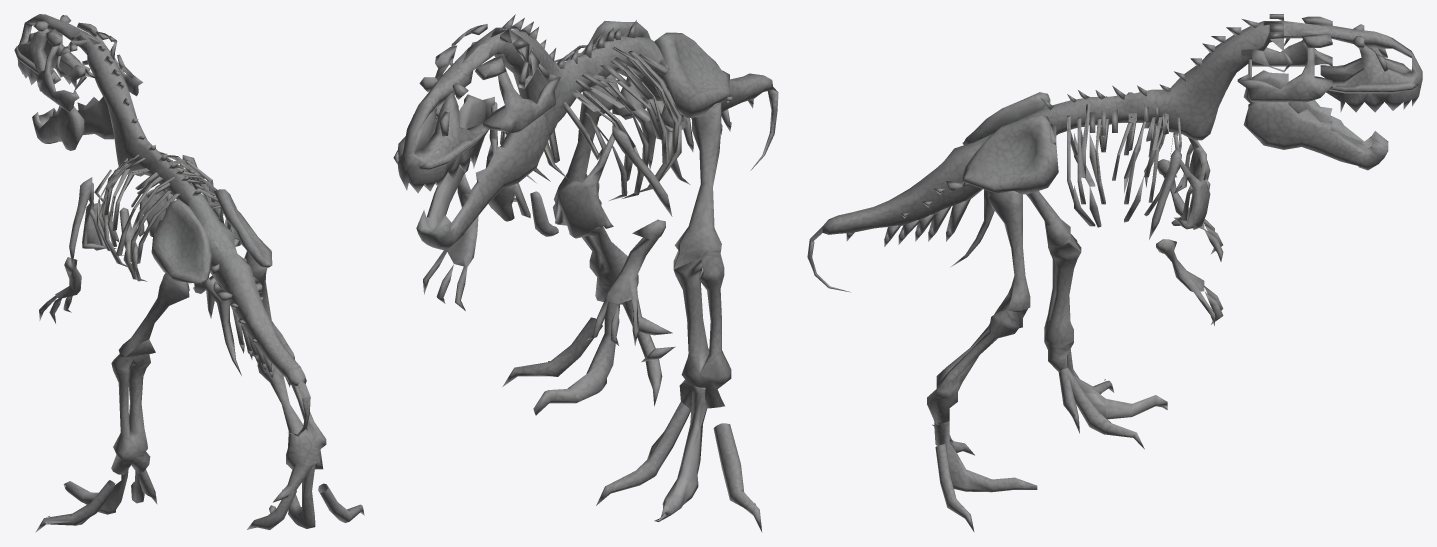
File: esqueleto.fbx
The picture shows the model from 3 angles, left to right: view 1: azimuth 30°, elevation 25°; view 2: azimuth 150°, elevation 25°; view 3: azimuth 270°, elevation 25°; orthographic projection. The views are drawn at different scales.
Parts seen in each view (by area): view 1: vertebra, pierna, cabezaArriba, femur, femur2, mandibula, pata, pata2, pierna2, brazo, pecho, pecho2; view 2: vertebra, cabezaArriba, pierna, mandibula, femur, pata, pata2, pecho, brazo, femur2, pierna2, brazo2 (+1 smaller); view 3: vertebra, cabezaArriba, pierna2, mandibula, femur, pata, femur2, pata2, pierna, brazo2, pecho2, brazo (+1 smaller).
Boxes of the visible parts, box(x1,y1,x2,y2) form: vertebra: box(59, 26, 310, 436); pierna: box(118, 199, 211, 357); cabezaArriba: box(14, 14, 142, 112); femur: box(111, 339, 155, 480); femur2: box(247, 321, 326, 502); mandibula: box(32, 96, 114, 150); pata: box(35, 469, 157, 532); pata2: box(247, 466, 364, 529); pierna2: box(209, 189, 273, 323); brazo: box(39, 257, 126, 323); pecho: box(82, 183, 123, 255); pecho2: box(138, 189, 172, 236); vertebra: box(452, 14, 778, 236); cabezaArriba: box(393, 39, 560, 193); pierna: box(641, 32, 729, 269); mandibula: box(416, 94, 549, 250); femur: box(673, 228, 731, 427); pata: box(596, 395, 762, 532); pata2: box(502, 297, 675, 415); pecho: box(555, 133, 625, 238); brazo: box(586, 193, 665, 345); femur2: box(553, 174, 672, 335); pierna2: box(554, 21, 650, 204); brazo2: box(423, 174, 478, 310); vertebra: box(807, 14, 1328, 292); cabezaArriba: box(1237, 16, 1422, 112); pierna2: box(962, 115, 1058, 312); mandibula: box(1243, 70, 1388, 170); femur: box(1044, 221, 1081, 375); pata: box(1058, 360, 1167, 449); femur2: box(927, 276, 1027, 424); pata2: box(932, 421, 1037, 531); pierna: box(962, 92, 1080, 251); brazo2: box(1156, 239, 1223, 326); pecho2: box(1174, 173, 1210, 229); brazo: box(1124, 159, 1223, 261).
Bounding box in the file's own units: 430 × 637 × 801.
30 materials, 30 textured.
